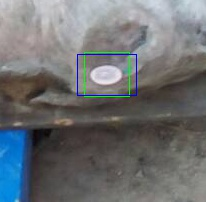text: (84, 52, 129, 96)
